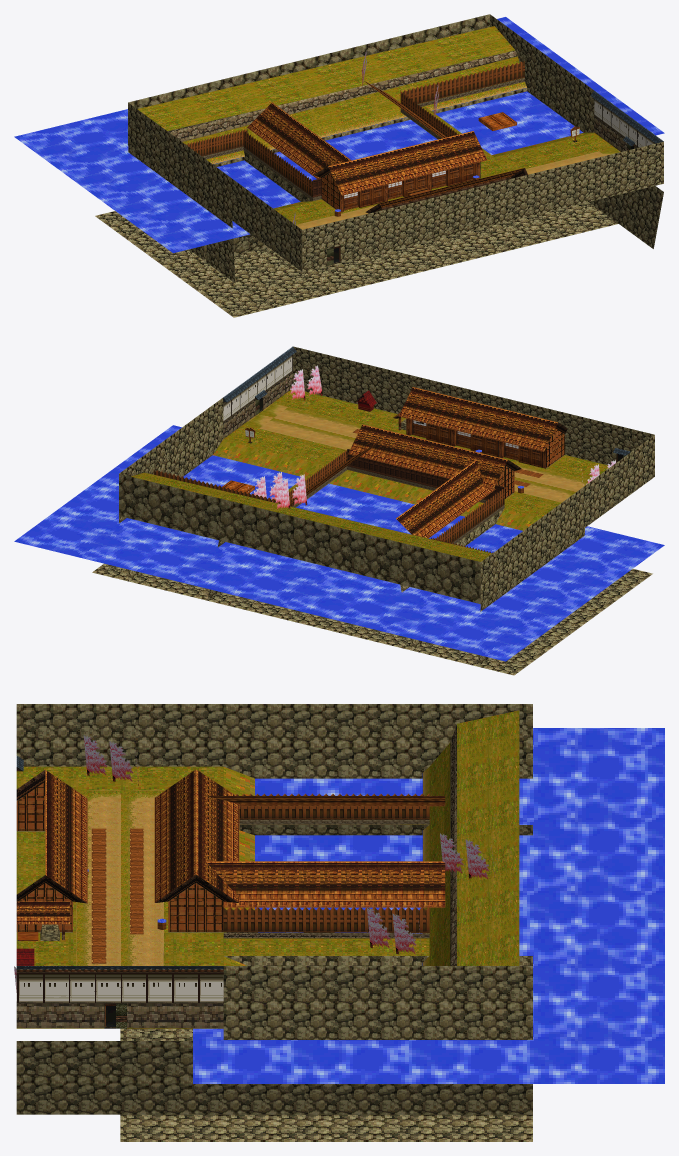
File: Machi-StageNum-353 - Oedo.obj
The picture shows the model from 3 angles, top to bottom: view 1: azimuth 30°, elevation 25°; view 2: azimuth 150°, elevation 25°; view 3: azimuth 270°, elevation 25°; orthographic projection. The views are drawn at different scales.
Parts seen in each view (by area): view 1: StoneWall_Shape_IndexedFaceSet.022, Ground_Shape_IndexedFaceSet.028, Water_Shape_IndexedFaceSet.171, Houses_Shape_IndexedFaceSet.016, Fence_Shape_IndexedFaceSet.005, Wall_Shape_IndexedFaceSet, Raft_Shape_IndexedFaceSet.008; view 2: StoneWall_Shape_IndexedFaceSet.022, Water_Shape_IndexedFaceSet.171, Ground_Shape_IndexedFaceSet.028, Houses_Shape_IndexedFaceSet.016, Fence_Shape_IndexedFaceSet.005, Trees_Shape_IndexedFaceSet.049, Wall_Shape_IndexedFaceSet; view 3: StoneWall_Shape_IndexedFaceSet.022, Water_Shape_IndexedFaceSet.171, Ground_Shape_IndexedFaceSet.028, Houses_Shape_IndexedFaceSet.016, Wall_Shape_IndexedFaceSet, Fence_Shape_IndexedFaceSet.005, Trees_Shape_IndexedFaceSet.049, Door_Shape_IndexedFaceSet.006.
Part boxes in pixels (x1=…): StoneWall_Shape_IndexedFaceSet.022: x1=95, y1=14, x2=663, y2=317; Ground_Shape_IndexedFaceSet.028: x1=137, y1=26, x2=637, y2=229; Water_Shape_IndexedFaceSet.171: x1=14, y1=17, x2=664, y2=253; Houses_Shape_IndexedFaceSet.016: x1=247, y1=81, x2=527, y2=213; Fence_Shape_IndexedFaceSet.005: x1=185, y1=61, x2=524, y2=197; Wall_Shape_IndexedFaceSet: x1=590, y1=90, x2=663, y2=147; Raft_Shape_IndexedFaceSet.008: x1=406, y1=112, x2=516, y2=196; StoneWall_Shape_IndexedFaceSet.022: x1=92, y1=346, x2=654, y2=675; Water_Shape_IndexedFaceSet.171: x1=14, y1=425, x2=664, y2=661; Ground_Shape_IndexedFaceSet.028: x1=131, y1=372, x2=608, y2=561; Houses_Shape_IndexedFaceSet.016: x1=289, y1=387, x2=567, y2=538; Fence_Shape_IndexedFaceSet.005: x1=153, y1=449, x2=504, y2=553; Trees_Shape_IndexedFaceSet.049: x1=247, y1=365, x2=615, y2=508; Wall_Shape_IndexedFaceSet: x1=223, y1=346, x2=296, y2=422; StoneWall_Shape_IndexedFaceSet.022: x1=16, y1=704, x2=532, y2=1141; Water_Shape_IndexedFaceSet.171: x1=193, y1=728, x2=664, y2=1083; Ground_Shape_IndexedFaceSet.028: x1=16, y1=710, x2=519, y2=1028; Houses_Shape_IndexedFaceSet.016: x1=16, y1=769, x2=445, y2=940; Wall_Shape_IndexedFaceSet: x1=16, y1=966, x2=223, y2=1003; Fence_Shape_IndexedFaceSet.005: x1=223, y1=793, x2=429, y2=933; Trees_Shape_IndexedFaceSet.049: x1=14, y1=735, x2=494, y2=992; Door_Shape_IndexedFaceSet.006: x1=16, y1=756, x2=126, y2=1028.
Size of the model in its own units: 24.9 by 5.81 by 19.24.
43 materials, 43 textured.
